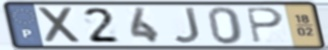0: (205, 5, 245, 46)
2: (81, 6, 120, 44)
4: (129, 6, 162, 45)
J: (171, 6, 203, 45)
P: (243, 7, 286, 45)
X: (35, 6, 85, 45)
